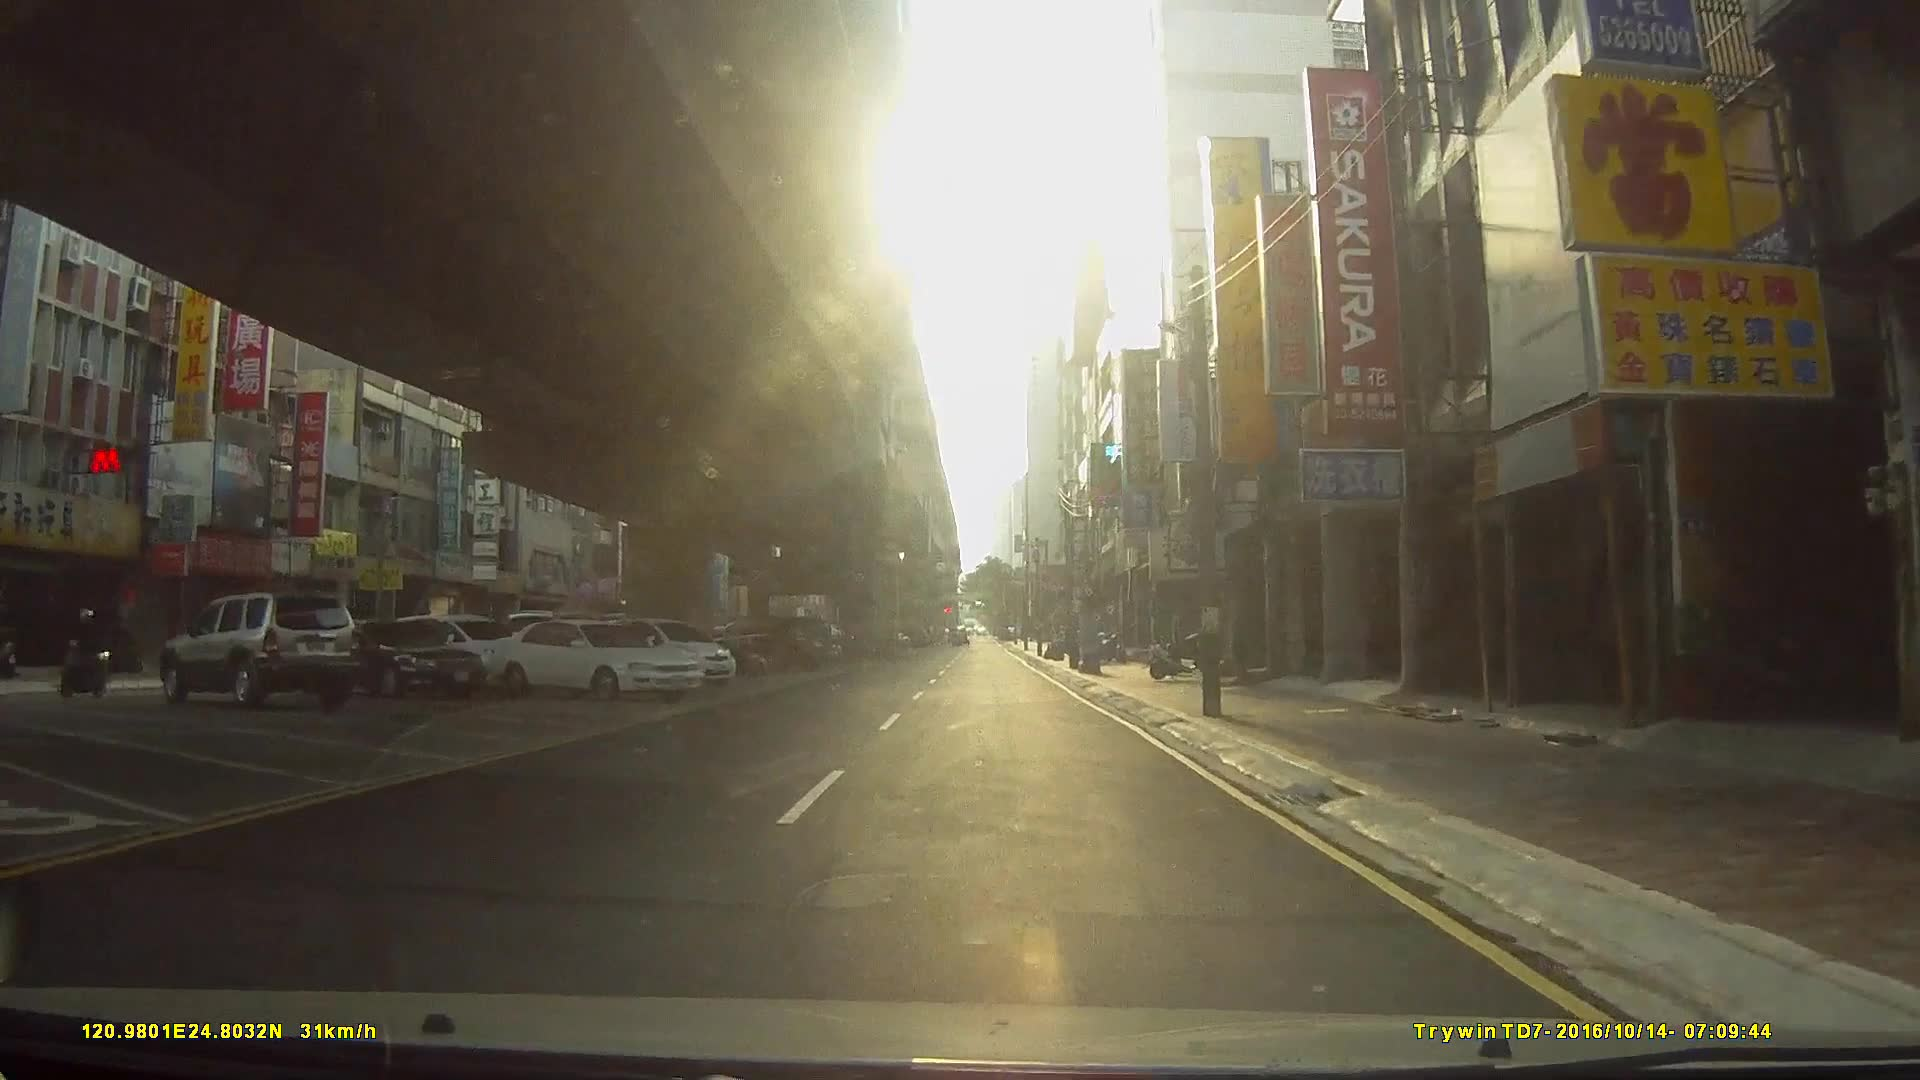rider: (58, 610, 115, 698)
vehicle: (156, 593, 358, 709), (482, 618, 706, 701), (270, 618, 485, 701)
